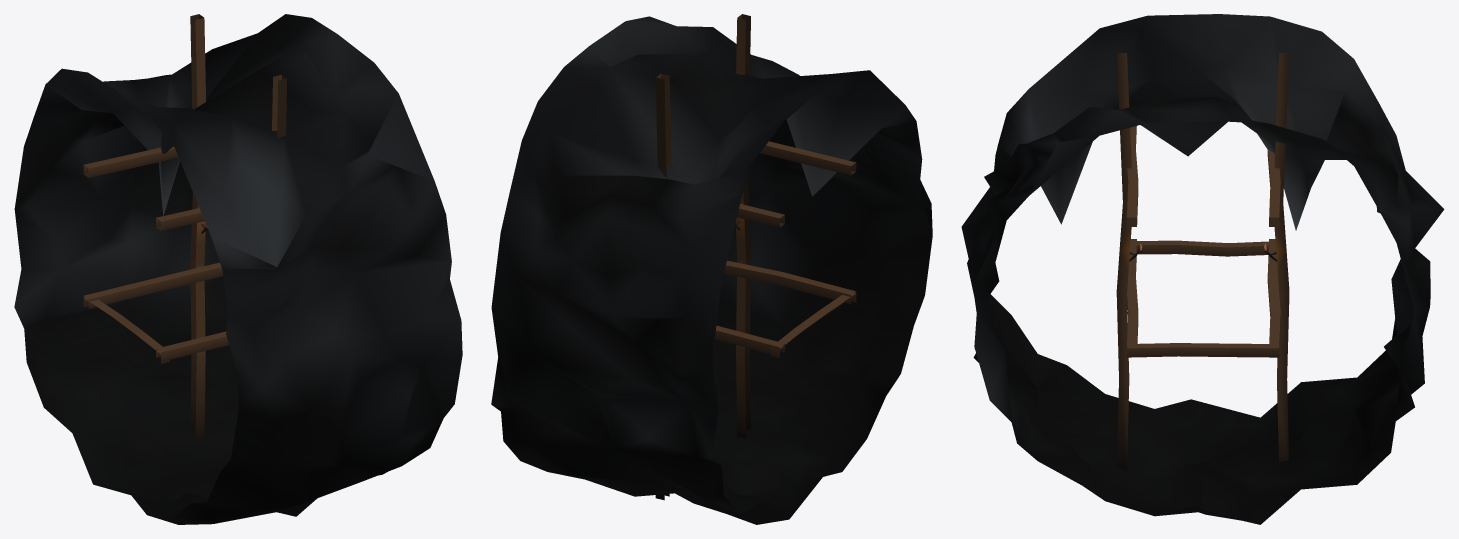
File: wallsLvl3_2.fbx
3 views of the same model, side by side, from view 1: azimuth 30°, elevation 25°; view 2: azimuth 150°, elevation 25°; view 3: azimuth 270°, elevation 25° (orthographic).
Visible parts, largest first — view 1: wallLvl3_2; view 2: wallLvl3_2; view 3: wallLvl3_2.
Boxes of the visible parts, bbox=[...] form: wallLvl3_2: bbox=[14, 14, 462, 524]; wallLvl3_2: bbox=[491, 14, 932, 524]; wallLvl3_2: bbox=[961, 14, 1444, 524].
Size of the model in its own units: 5000 by 9576 by 9510.
